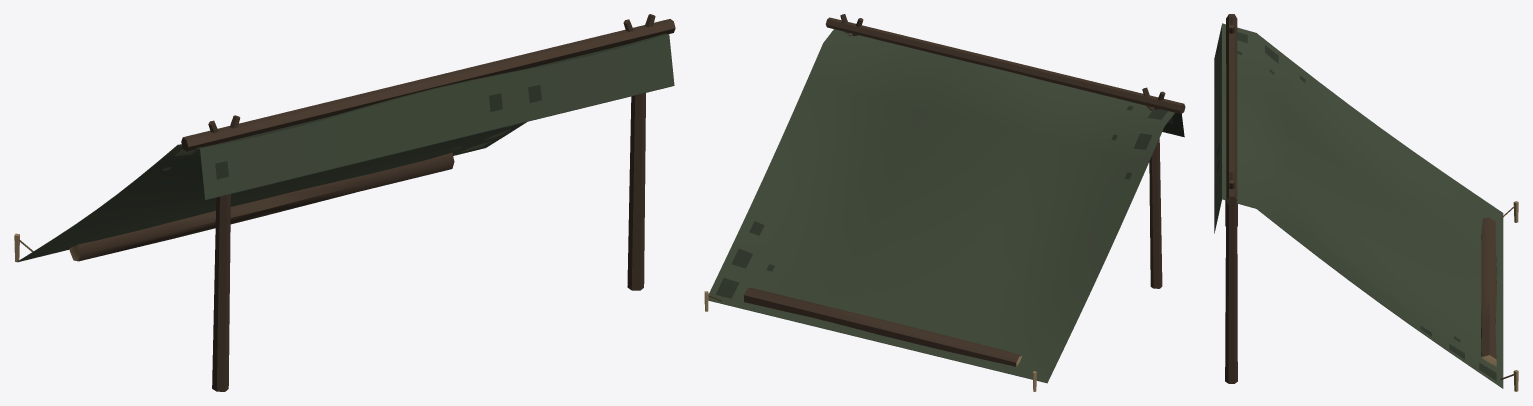
Rendered from lean_to.glb.
3 renders of one model, left to right at view 1: azimuth 30°, elevation 25°; view 2: azimuth 150°, elevation 25°; view 3: azimuth 270°, elevation 25°, orthographic. The views are drawn at different scales.
Parts seen in each view (by area): view 1: lean_to; view 2: lean_to; view 3: lean_to.
Boxes of the visible parts, <box> form: lean_to: <box>14,14,675,391</box>; lean_to: <box>704,14,1185,391</box>; lean_to: <box>1214,14,1518,391</box>.
Size of the model in its own units: 2.7 by 1.45 by 1.91.
